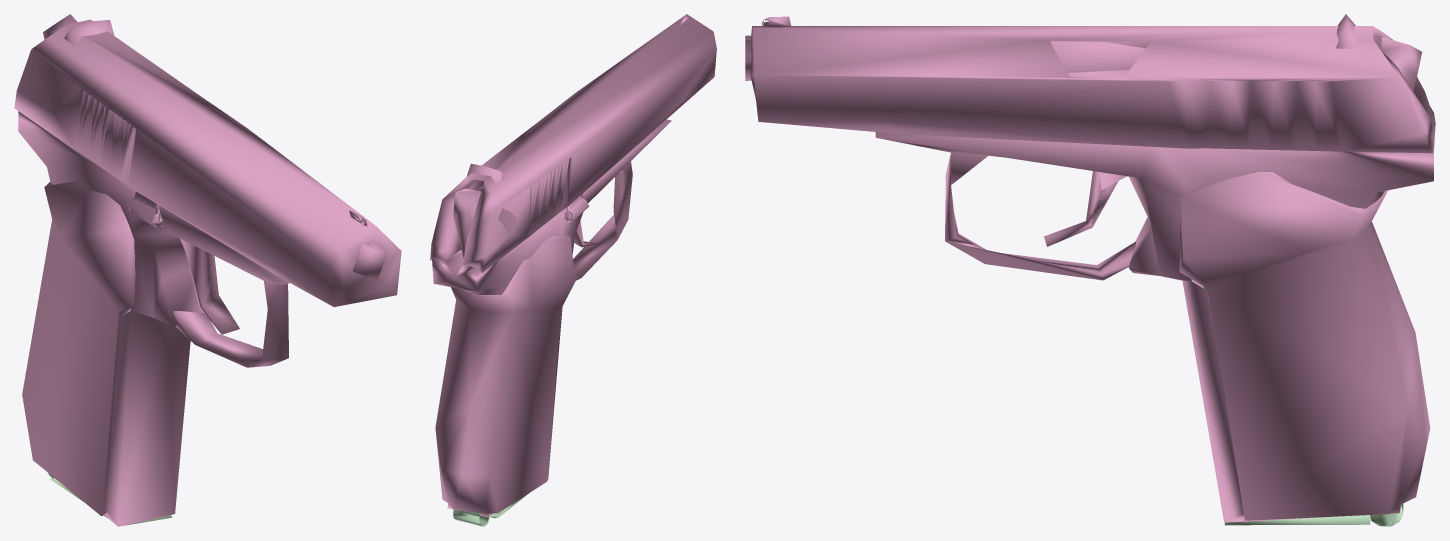
Rendered from PMNoHud.fbx.
3 renders of one model, left to right at view 1: azimuth 30°, elevation 25°; view 2: azimuth 150°, elevation 25°; view 3: azimuth 270°, elevation 25°, orthographic. The views are drawn at different scales.
Parts seen in each view (by area): view 1: lod; view 2: lod; view 3: lod.
Boxes of the visible parts, box(x1,y1,x2,y2) form: lod: box(14, 14, 401, 526); lod: box(430, 14, 716, 526); lod: box(745, 14, 1435, 526).
Bounding box in the file's own units: 51.59 × 252 × 315.
